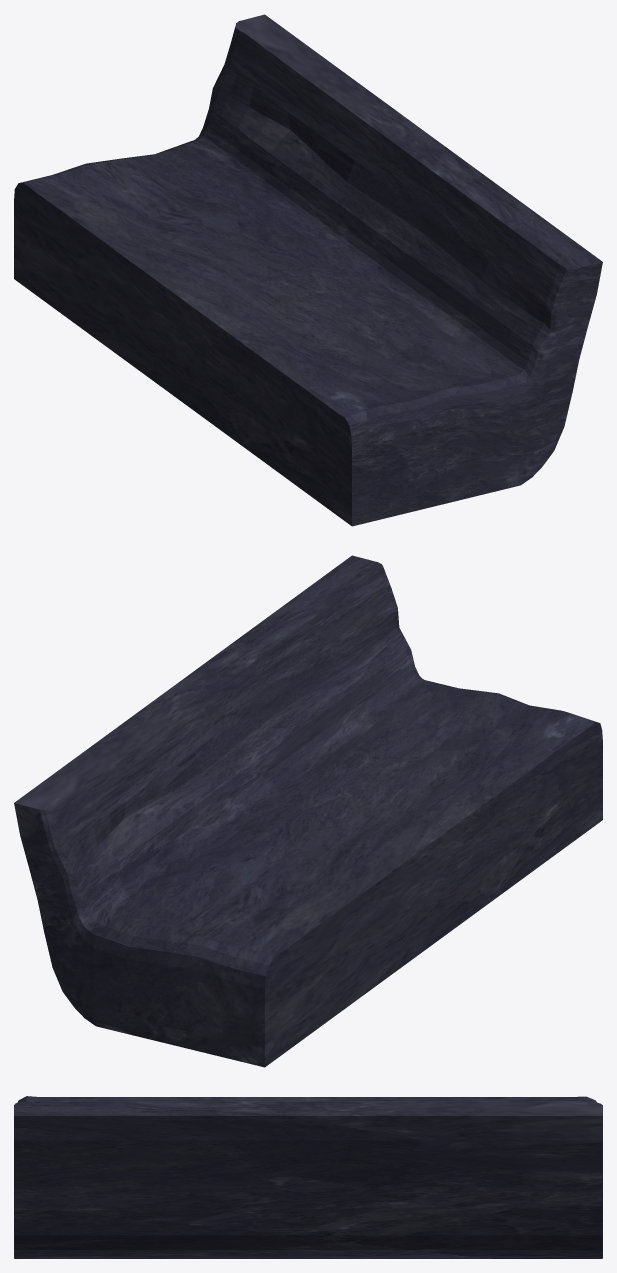
File: CaveS2.fbx
3 renders of one model, top to bottom at view 1: azimuth 30°, elevation 25°; view 2: azimuth 150°, elevation 25°; view 3: azimuth 270°, elevation 25°, orthographic. The views are drawn at different scales.
Visible parts, largest first — view 1: S2; view 2: S2; view 3: S2.
Part boxes in pixels (x1=…): S2: x1=14, y1=14, x2=602, y2=526; S2: x1=14, y1=555, x2=602, y2=1067; S2: x1=14, y1=1096, x2=602, y2=1258.
Bounding box in the file's own units: 511 × 396 × 1192.
